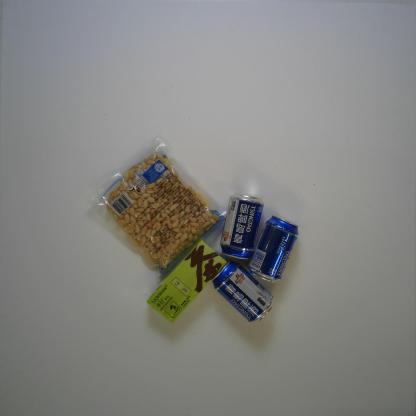Alcohol: (210, 259, 274, 323), (247, 215, 300, 284), (219, 192, 265, 260)
Dried Fruit: (89, 134, 228, 282)
Instant Drink: (145, 238, 228, 324)
